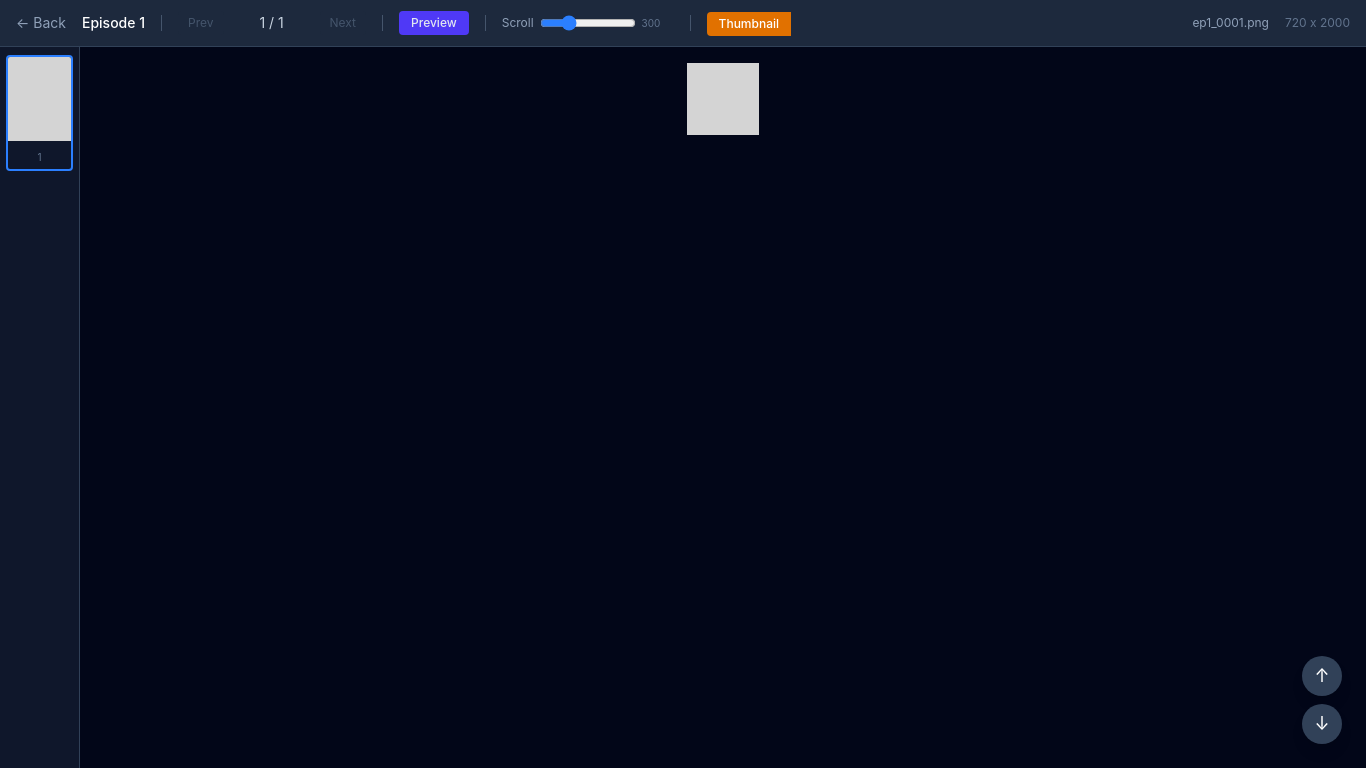
Scenario: SliceDetailPage — Thumbnail › shows platform dropdown when Thumbnail is clicked
The width and height of the screenshot is (1366, 768).
Click the button "Thumbnail".
click(749, 24)  # box [707, 12, 791, 36]
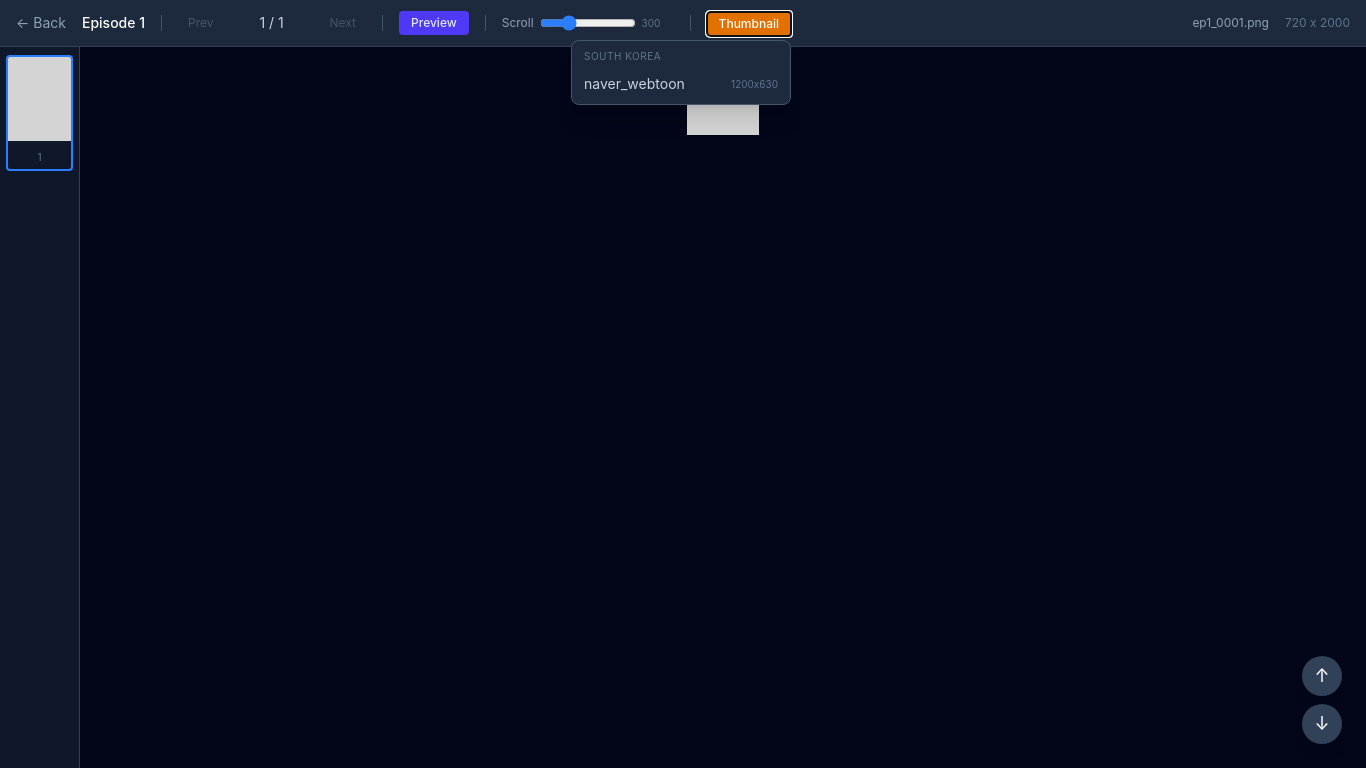
Expected: the text "naver_webtoon" is shown, [584, 74, 685, 94]
